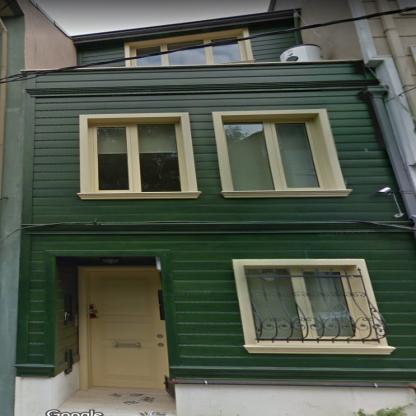door: (84, 269, 162, 387)
window: (246, 269, 362, 340), (223, 122, 322, 190), (94, 123, 182, 192), (134, 42, 242, 66), (133, 35, 238, 56)
